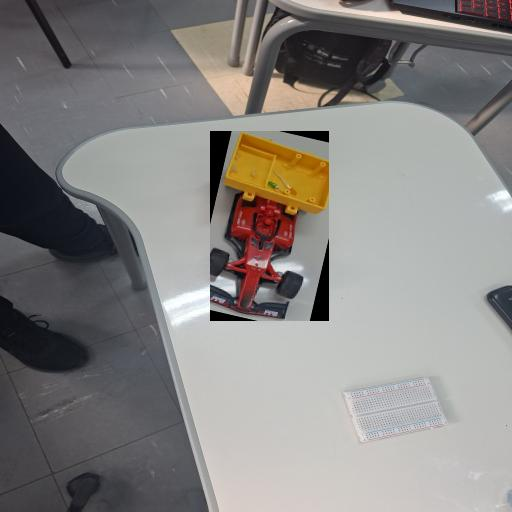carro: (210, 131, 329, 321)
